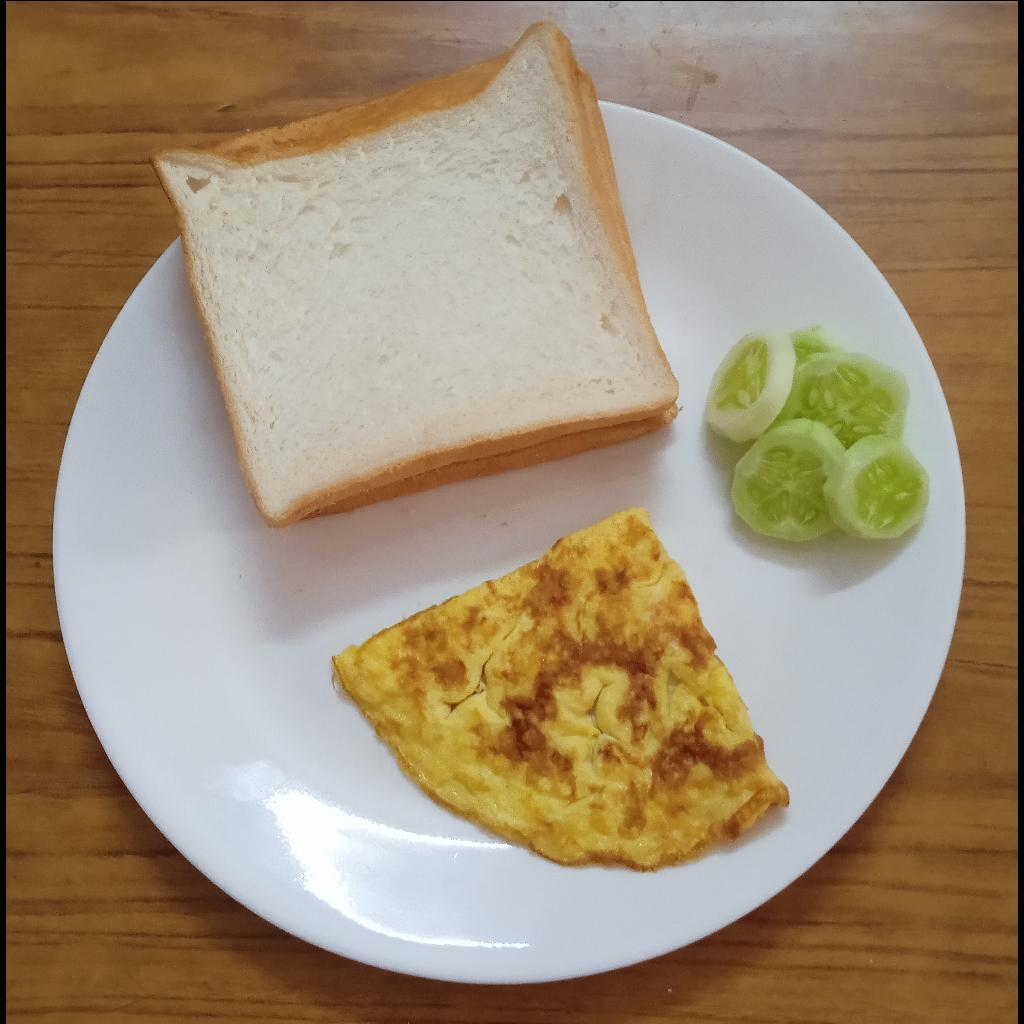bread: (148, 20, 681, 529)
cucumber: (704, 324, 930, 542)
egg-poached: (333, 507, 790, 869)
